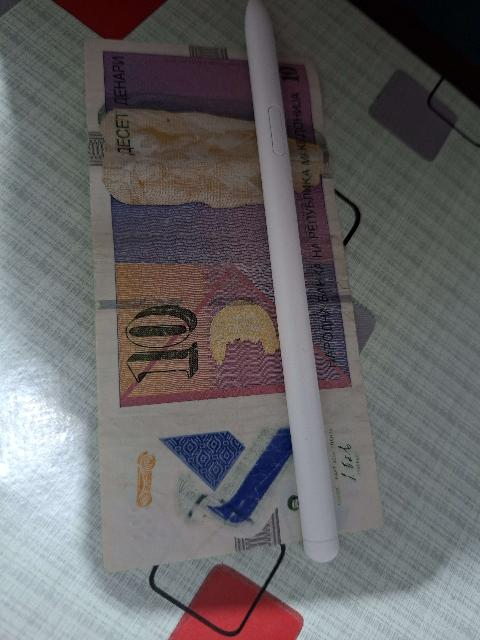10_note: (77, 31, 302, 567)
